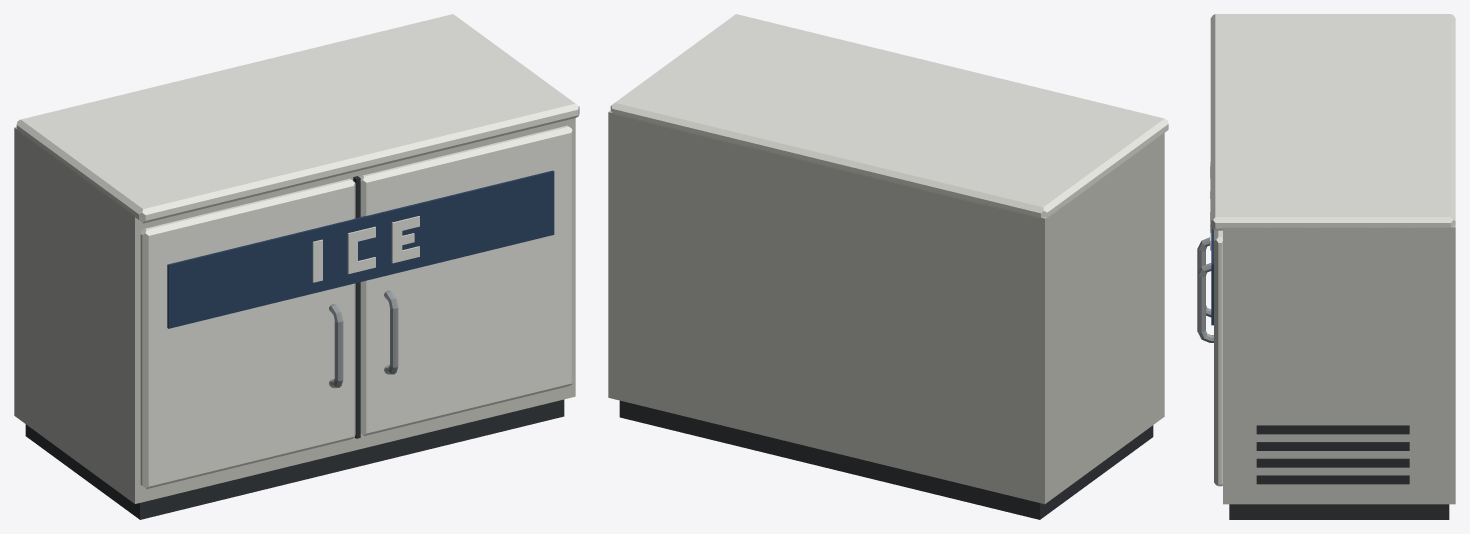
Rendered from glaciere.glb.
3 views of the same model, side by side, from view 1: azimuth 30°, elevation 25°; view 2: azimuth 150°, elevation 25°; view 3: azimuth 270°, elevation 25° (orthographic). The views are drawn at different scales.
Parts seen in each view (by area): view 1: doors, lid, cabinet, band, plinth, handles, seam, letter_e, letter_c; view 2: cabinet, lid, plinth; view 3: cabinet, lid, vent, plinth, doors, handles.
Part boxes in pixels (bbox=[...]): doors: bbox=[140, 125, 573, 489]; lid: bbox=[16, 14, 579, 223]; cabinet: bbox=[14, 118, 575, 503]; band: bbox=[167, 170, 554, 328]; plinth: bbox=[25, 399, 564, 519]; handles: bbox=[329, 290, 398, 388]; seam: bbox=[353, 176, 360, 438]; letter_e: bbox=[391, 216, 419, 263]; letter_c: bbox=[347, 226, 375, 274]; cabinet: bbox=[608, 110, 1164, 504]; lid: bbox=[610, 14, 1168, 218]; plinth: bbox=[619, 400, 1153, 519]; cabinet: bbox=[1223, 225, 1455, 504]; lid: bbox=[1210, 14, 1455, 230]; vent: bbox=[1256, 425, 1409, 484]; plinth: bbox=[1229, 504, 1449, 519]; doors: bbox=[1214, 230, 1222, 486]; handles: bbox=[1197, 237, 1213, 342].
Bounding box in the file's own units: 1.61 × 1.1 × 0.8437.
Materials: 5 (5 with a texture image).
